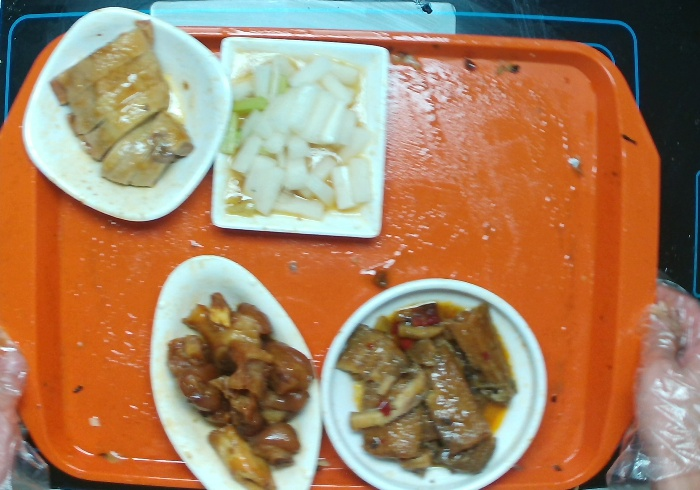HZYJPL-Si_Fang_Die: (200, 27, 403, 253)
HZYJPL-Si_Fang_Yuan_Die: (15, 1, 242, 231)
HZYJPL-Xiao_Yu_Die: (142, 251, 333, 490)
HZYJPL-Xiao_Yuan_Die: (308, 272, 556, 490)
